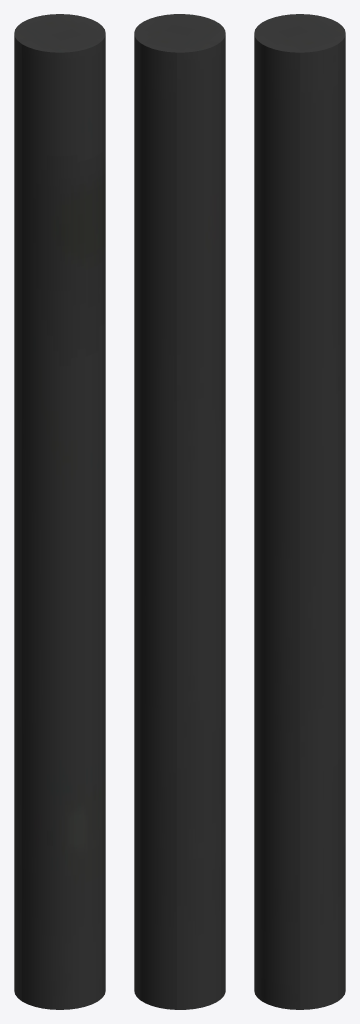
The model's file is center_frame__rear_floor_tube.glb.
3 views of the same model, side by side, from view 1: azimuth 90°, elevation 25°; view 2: azimuth 210°, elevation 25°; view 3: azimuth 270°, elevation 25° (orthographic).
Visible parts, largest first — view 1: world; view 2: world; view 3: world.
Part boxes in pixels (x1=…): world: x1=14, y1=14, x2=105, y2=1009; world: x1=134, y1=14, x2=225, y2=1009; world: x1=254, y1=14, x2=345, y2=1009.
Size of the model in its own units: 0.052 by 0.6 by 0.052.
1 material, 1 textured.
